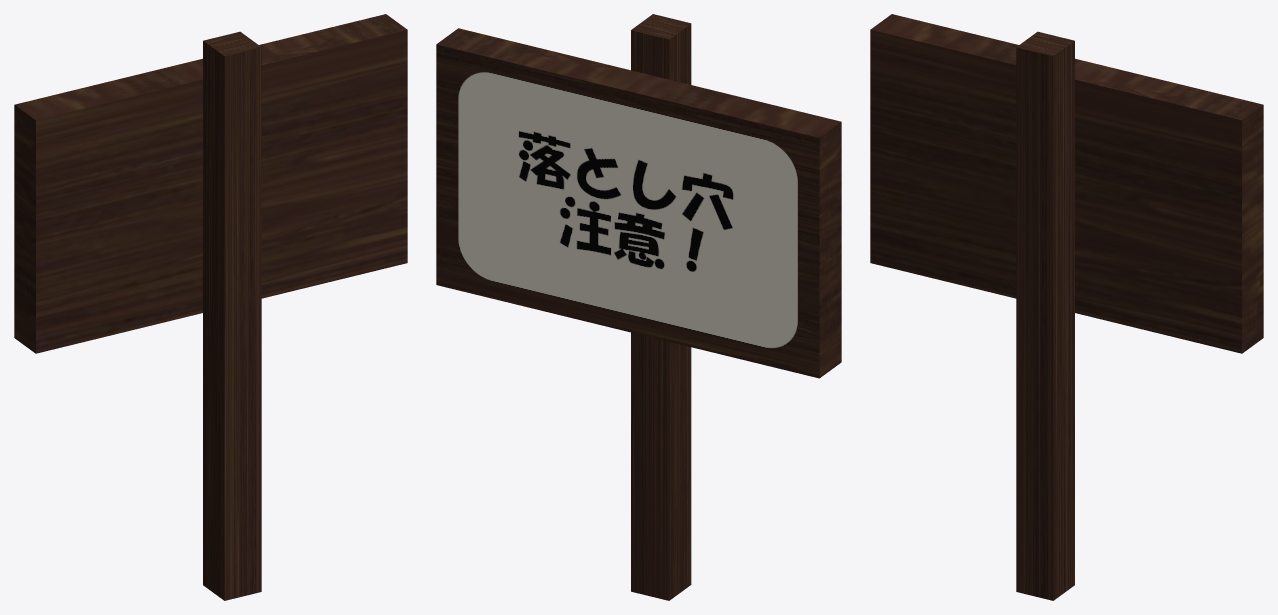
File: boad._warning.fbx
The picture shows the model from 3 angles, left to right: view 1: azimuth 30°, elevation 25°; view 2: azimuth 150°, elevation 25°; view 3: azimuth 330°, elevation 25°; orthographic projection. The views are drawn at different scales.
Visible parts, largest first — view 1: Cube.001, Cube; view 2: Cube.001, Cube; view 3: Cube.001, Cube.
Boxes of the visible parts, x1=… form: Cube.001: x1=14, y1=14, x2=407, y2=353; Cube: x1=203, y1=31, x2=261, y2=600; Cube.001: x1=436, y1=28, x2=841, y2=378; Cube: x1=631, y1=14, x2=691, y2=600; Cube.001: x1=870, y1=14, x2=1263, y2=353; Cube: x1=1016, y1=31, x2=1074, y2=600.
Size of the model in its own units: 250 by 350 by 50.
